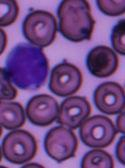L: (3, 42, 49, 90)
